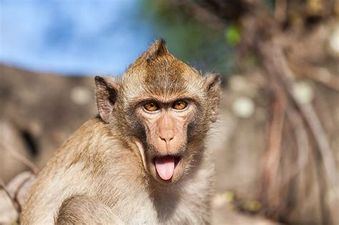monkey: (38, 1, 258, 224)
